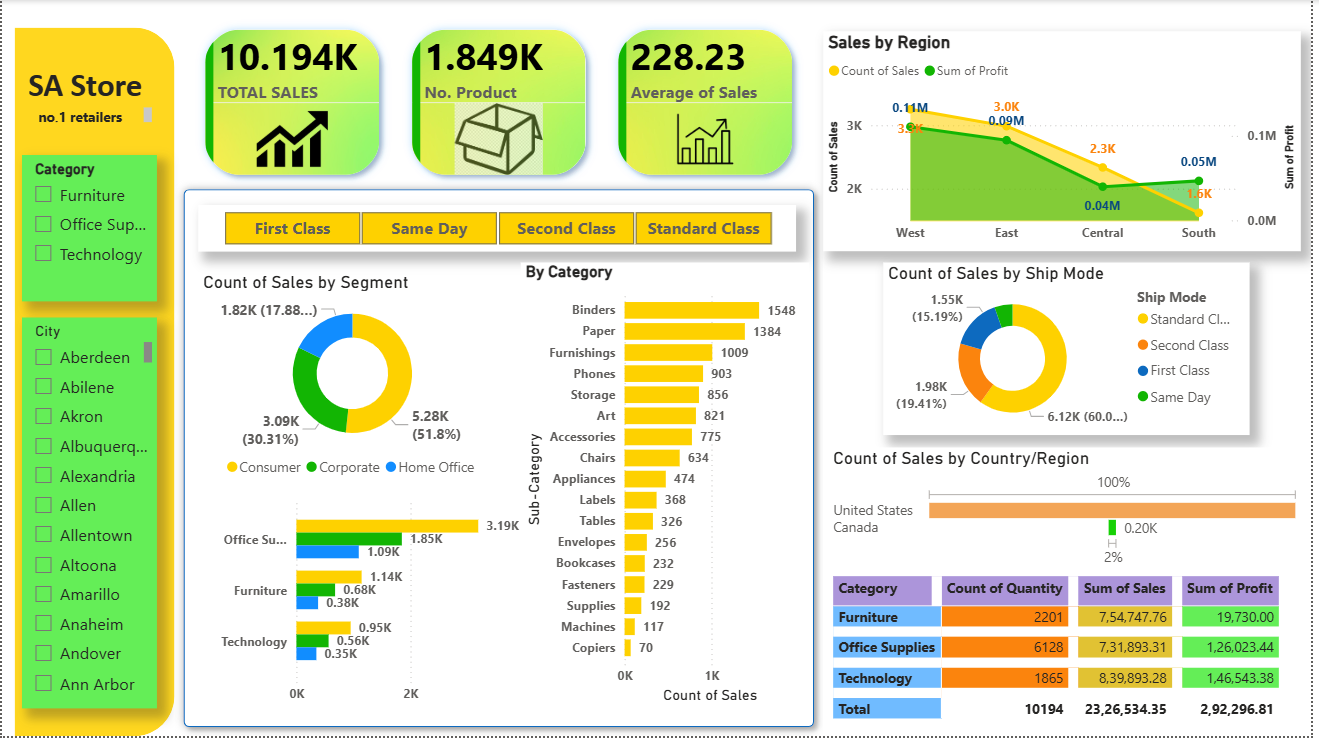

The dashboard page shown, as its layout file describes it:
{"tool":"powerbi","page":{"name":"Page 2","canvas":[1280,720],"ordinal":0},"visuals":[{"type":"shape","box":[12.2,26.9,145.5,683.6],"z":0},{"type":"textbox","box":[295,590.1,212.7,89.2],"z":1000},{"type":"textbox","box":[0,58.7,170,55],"z":2000},{"type":"cardVisual","fields":{"Data":["CountNonNull(sample_-_superstore.Sales)","Count(sample_-_superstore.Product Name)","Avg(sample_-_superstore.Sales)1"]},"box":[170,0,633.4,200.5],"z":3000},{"type":"shape","box":[168.8,176.1,634.7,544.2],"z":4000},{"type":"donutChart","fields":{"Y":["CountNonNull(sample_-_superstore.Sales)"],"Category":["sample_-_superstore.Segment"]},"box":[192,265.4,302,210.3],"z":5000},{"type":"slicer","fields":{"Values":["sample_-_superstore.Ship Mode"]},"box":[192,200.5,584.5,45.2],"z":6000},{"type":"clusteredBarChart","fields":{"Category":["sample_-_superstore.Category"],"Y":["CountNonNull(sample_-_superstore.Sales)"],"Series":["sample_-_superstore.Segment"]},"box":[193.2,475.7,326.5,221.3],"z":7000},{"type":"barChart","title":"By Category","fields":{"Y":["CountNonNull(sample_-_superstore.Sales)"],"Category":["sample_-_superstore.Sub-Category"]},"box":[507.5,256.8,282.5,436.6],"z":8000},{"type":"lineChart","title":"Sales by Region","fields":{"Y":["CountNonNull(sample_-_superstore.Sales)"],"Category":["sample_-_superstore.Region"],"Y2":["Sum(sample_-_superstore.Profit)"]},"box":[803.4,30.6,467.1,215.2],"z":9000},{"type":"donutChart","fields":{"Category":["sample_-_superstore.Ship Mode"],"Y":["CountNonNull(sample_-_superstore.Sales)"]},"box":[862.1,256.8,358.3,168.8],"z":10000},{"type":"funnel","fields":{"Category":["sample_-_superstore.Country/Region"],"Y":["CountNonNull(sample_-_superstore.Sales)"]},"box":[808.3,437.8,467.1,121.1],"z":11000},{"type":"pivotTable","fields":{"Rows":["sample_-_superstore.Category"],"Values":["CountNonNull(sample_-_superstore.Quantity)","Sum(sample_-_superstore.Sales)","Sum(sample_-_superstore.Profit)"]},"box":[808.3,558.8,457.3,151.6],"z":12000},{"type":"slicer","fields":{"Values":["sample_-_superstore.Category"]},"box":[19.6,151.6,132.1,143.1],"z":13000},{"type":"slicer","fields":{"Values":["sample_-_superstore.Ship Mode"]},"box":[19.6,310.6,132.1,150.4],"z":14000},{"type":"slicer","fields":{"Values":["sample_-_superstore.Segment"]},"box":[17.1,475.7,134.5,138.2],"z":15000},{"type":"textbox","box":[30.6,100.3,121.1,24.5],"z":16000}]}

Visuals, with their boxes in screenshot pixels (x1, y1, x2, y2), scaled from the page's 1280x720 canvas onto the 1319x741 screenshot:
shape: [x1=13, y1=28, x2=163, y2=731]
textbox: [x1=304, y1=607, x2=523, y2=699]
textbox: [x1=0, y1=60, x2=175, y2=117]
cardVisual - CountNonNull(sample_-_superstore.Sales) x Count(sample_-_superstore.Product Name): [x1=175, y1=0, x2=828, y2=206]
shape: [x1=174, y1=181, x2=828, y2=740]
donutChart - CountNonNull(sample_-_superstore.Sales) x sample_-_superstore.Segment: [x1=198, y1=273, x2=509, y2=490]
slicer - sample_-_superstore.Ship Mode: [x1=198, y1=206, x2=800, y2=253]
clusteredBarChart - sample_-_superstore.Category x CountNonNull(sample_-_superstore.Sales): [x1=199, y1=490, x2=536, y2=717]
"By Category" barChart: [x1=523, y1=264, x2=814, y2=714]
"Sales by Region" lineChart: [x1=828, y1=31, x2=1309, y2=253]
donutChart - sample_-_superstore.Ship Mode x CountNonNull(sample_-_superstore.Sales): [x1=888, y1=264, x2=1258, y2=438]
funnel - sample_-_superstore.Country/Region x CountNonNull(sample_-_superstore.Sales): [x1=833, y1=451, x2=1314, y2=575]
pivotTable - sample_-_superstore.Category x CountNonNull(sample_-_superstore.Quantity): [x1=833, y1=575, x2=1304, y2=731]
slicer - sample_-_superstore.Category: [x1=20, y1=156, x2=156, y2=303]
slicer - sample_-_superstore.Ship Mode: [x1=20, y1=320, x2=156, y2=474]
slicer - sample_-_superstore.Segment: [x1=18, y1=490, x2=156, y2=632]
textbox: [x1=32, y1=103, x2=156, y2=128]
